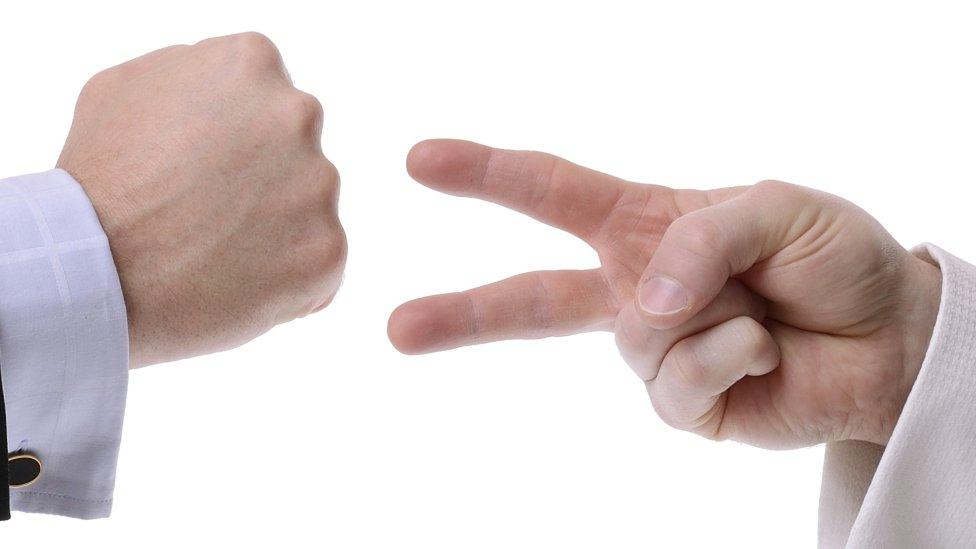rock: (49, 18, 359, 383)
scissors: (379, 122, 921, 471)
